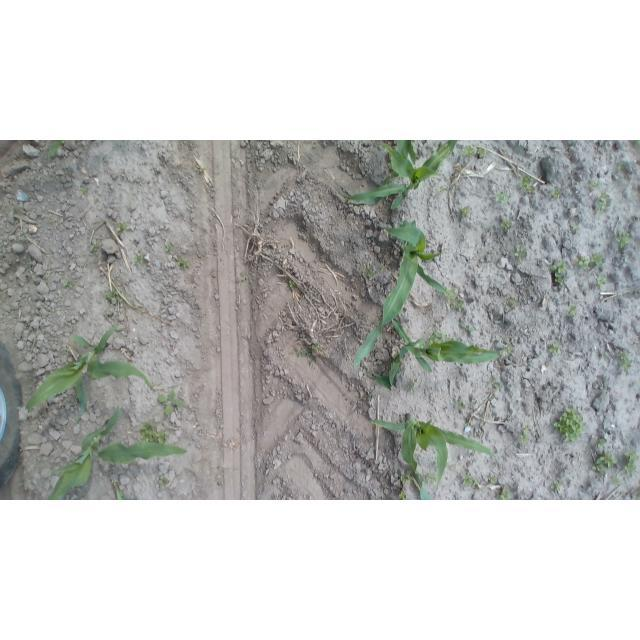Maize: (354, 218, 450, 367), (45, 404, 192, 501), (21, 325, 157, 427), (369, 412, 500, 499), (363, 318, 506, 389), (340, 141, 460, 208), (345, 140, 418, 206), (109, 476, 135, 500), (48, 141, 69, 162)
Weeds: (552, 408, 587, 445), (157, 389, 184, 415), (592, 449, 618, 472), (138, 419, 162, 443), (293, 345, 318, 367), (445, 287, 466, 312), (549, 259, 567, 285), (594, 190, 611, 216), (622, 449, 638, 476), (517, 425, 533, 446), (618, 351, 633, 373), (616, 229, 631, 250), (461, 474, 478, 491), (521, 175, 536, 194), (514, 243, 528, 263), (493, 486, 514, 499), (106, 291, 122, 306), (363, 263, 377, 280), (577, 252, 590, 270), (427, 331, 448, 342), (549, 478, 564, 493), (115, 220, 129, 236), (459, 205, 473, 220), (400, 471, 414, 486), (460, 146, 476, 159), (565, 303, 579, 317), (592, 253, 605, 268), (133, 252, 146, 267), (460, 321, 475, 334), (62, 278, 78, 290), (595, 273, 608, 287), (551, 185, 564, 199), (500, 216, 513, 230), (408, 378, 419, 394), (88, 241, 101, 254), (596, 436, 609, 449), (496, 192, 509, 205), (176, 258, 190, 270), (476, 146, 488, 159), (490, 379, 503, 391), (78, 185, 91, 197), (568, 223, 580, 236), (424, 472, 437, 484), (549, 341, 560, 355), (501, 342, 513, 354), (454, 399, 466, 411), (286, 278, 297, 290), (611, 474, 623, 485), (159, 477, 171, 488), (588, 180, 600, 191), (508, 295, 518, 308), (378, 261, 390, 271), (165, 242, 175, 254), (488, 475, 499, 485), (196, 163, 206, 174), (439, 185, 450, 195), (469, 399, 478, 410), (240, 272, 249, 283), (398, 490, 409, 499), (618, 161, 627, 171), (313, 342, 323, 350), (450, 463, 458, 472), (93, 197, 101, 204)
